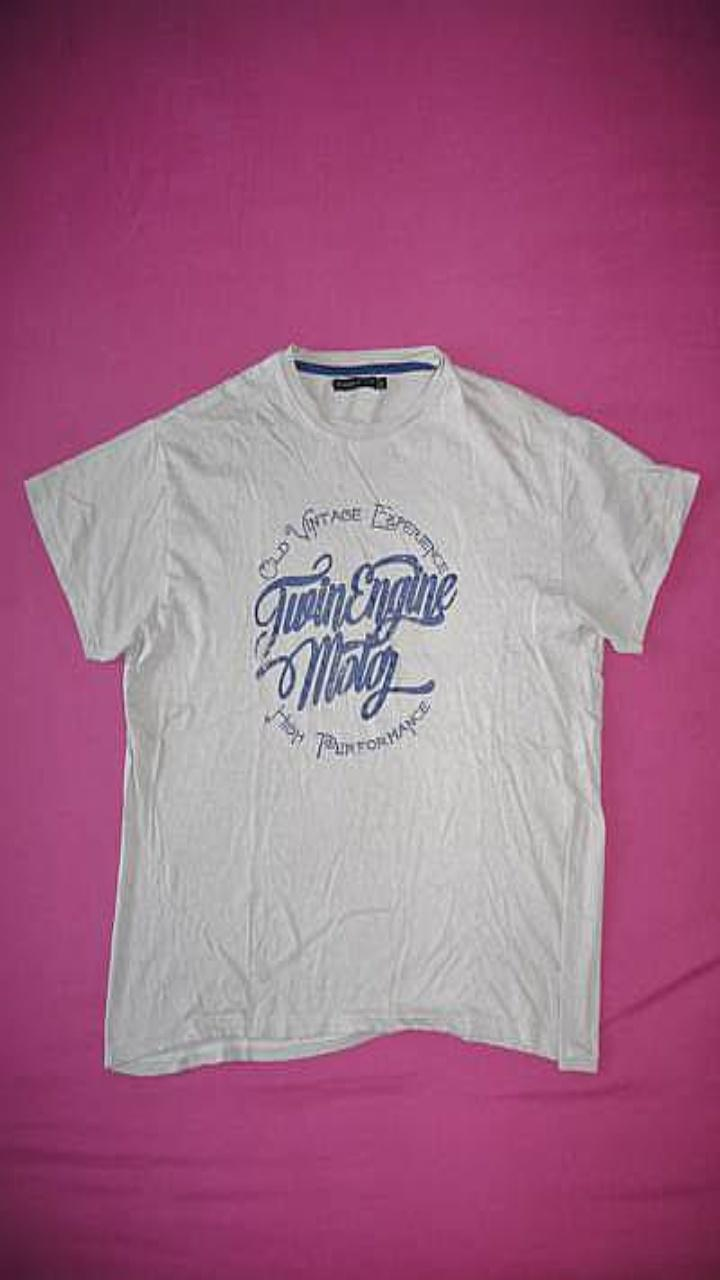T-Shirt: (23, 343, 699, 1075)
